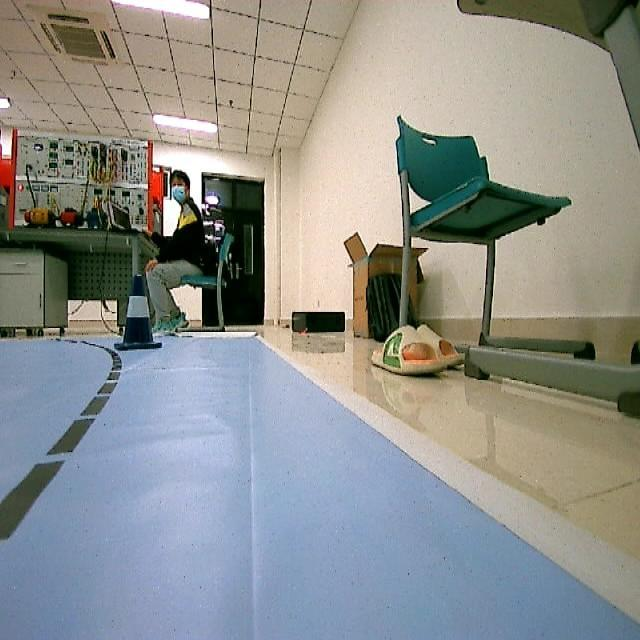obstacle: (111, 275, 166, 355)
